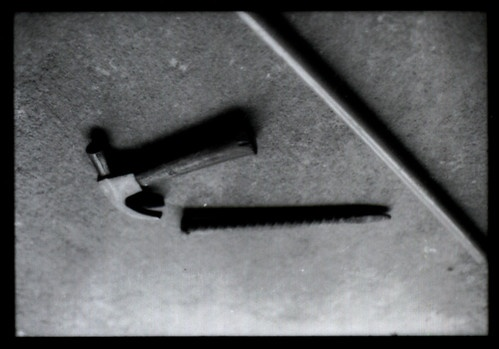hammer: (82, 113, 262, 222)
